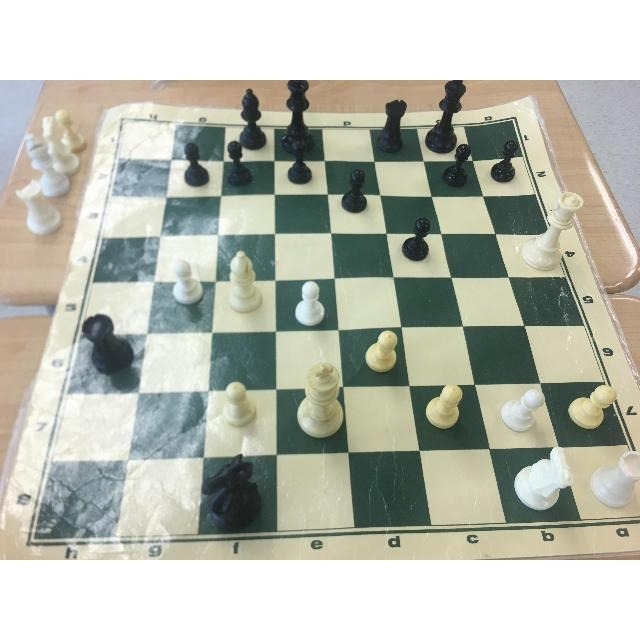black-bishop: (235, 80, 268, 145)
black-king: (422, 80, 484, 151)
black-knight: (198, 444, 266, 527)
black-pawn: (403, 202, 443, 263), (437, 139, 479, 190), (172, 137, 212, 188), (344, 162, 380, 216), (488, 135, 524, 183), (282, 136, 313, 191), (228, 138, 252, 187)
black-queen: (280, 80, 313, 140)
black-rook: (73, 297, 142, 367), (375, 91, 411, 153)
white-bishop: (219, 244, 274, 321)
white-king: (292, 353, 350, 445)
white-knight: (512, 445, 574, 511)
white-pawn: (152, 252, 209, 312), (491, 380, 549, 436), (284, 276, 342, 328), (354, 324, 410, 377), (563, 377, 617, 431), (421, 376, 464, 434), (214, 376, 258, 426)
white-queen: (517, 188, 583, 273)
white-rook: (594, 443, 640, 513)
